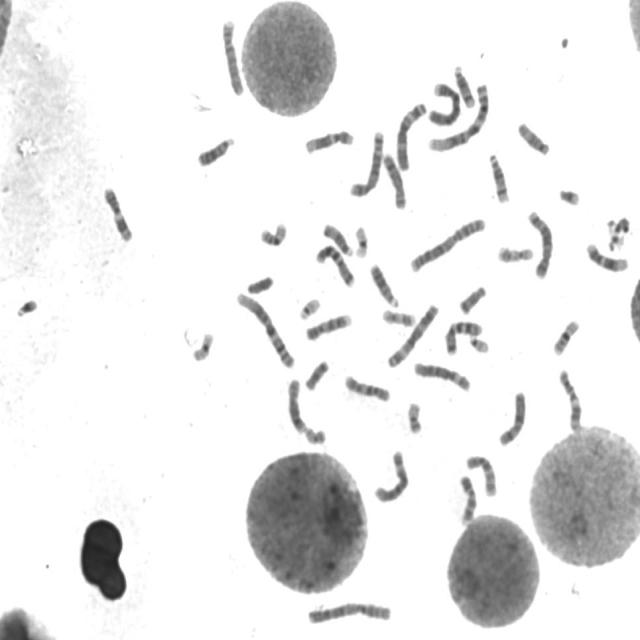A1: (232, 286, 298, 371), (425, 78, 492, 153)
A2: (407, 212, 488, 274), (304, 596, 393, 626)
A3: (385, 299, 441, 369), (393, 97, 429, 171)
B4: (219, 14, 247, 96), (426, 77, 463, 126)
B5: (347, 125, 386, 198), (524, 205, 556, 280)
C10: (463, 449, 499, 498), (341, 370, 393, 403)
C11: (100, 182, 135, 243), (556, 364, 585, 434)
C12: (583, 238, 631, 274), (302, 124, 356, 155)
C6: (370, 446, 410, 504), (411, 358, 473, 392)
C7: (313, 239, 358, 289), (442, 316, 485, 357)
C8: (380, 148, 409, 210), (285, 374, 307, 435)
C9: (302, 308, 353, 342), (456, 471, 480, 526)
D13: (368, 258, 402, 309), (194, 131, 237, 168)
D14: (485, 149, 512, 204), (451, 60, 477, 109)
D15: (514, 117, 552, 157), (320, 218, 354, 258)
E16: (550, 314, 582, 357), (257, 217, 289, 247)
E17: (495, 240, 536, 264), (379, 304, 418, 328)
E18: (456, 280, 489, 315), (302, 354, 331, 392)
F19: (189, 327, 216, 362), (352, 221, 370, 259)
F20: (404, 398, 424, 435), (300, 422, 328, 446)
G21: (12, 292, 40, 319), (556, 183, 583, 207)
G22: (296, 293, 322, 321), (466, 332, 492, 354)
X: (496, 387, 529, 448)
Y: (244, 270, 276, 296)
